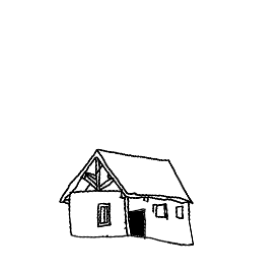bottom_placed_house: (3, 2, 260, 260)
closed_window: (92, 200, 115, 229)
door: (125, 206, 149, 241)
open_window: (151, 201, 172, 222), (173, 204, 187, 222)
roof: (54, 147, 205, 203)
small_house: (4, 11, 260, 260)
wall: (64, 146, 130, 240)
